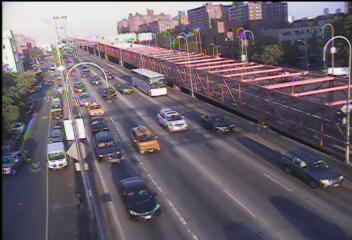neg: (276, 117, 316, 171), (180, 141, 215, 187), (280, 52, 310, 92), (90, 57, 116, 92), (175, 24, 199, 56), (145, 89, 169, 120), (37, 159, 61, 190), (235, 52, 257, 81), (85, 143, 105, 169), (46, 107, 64, 132), (251, 167, 268, 190), (238, 100, 255, 122)
